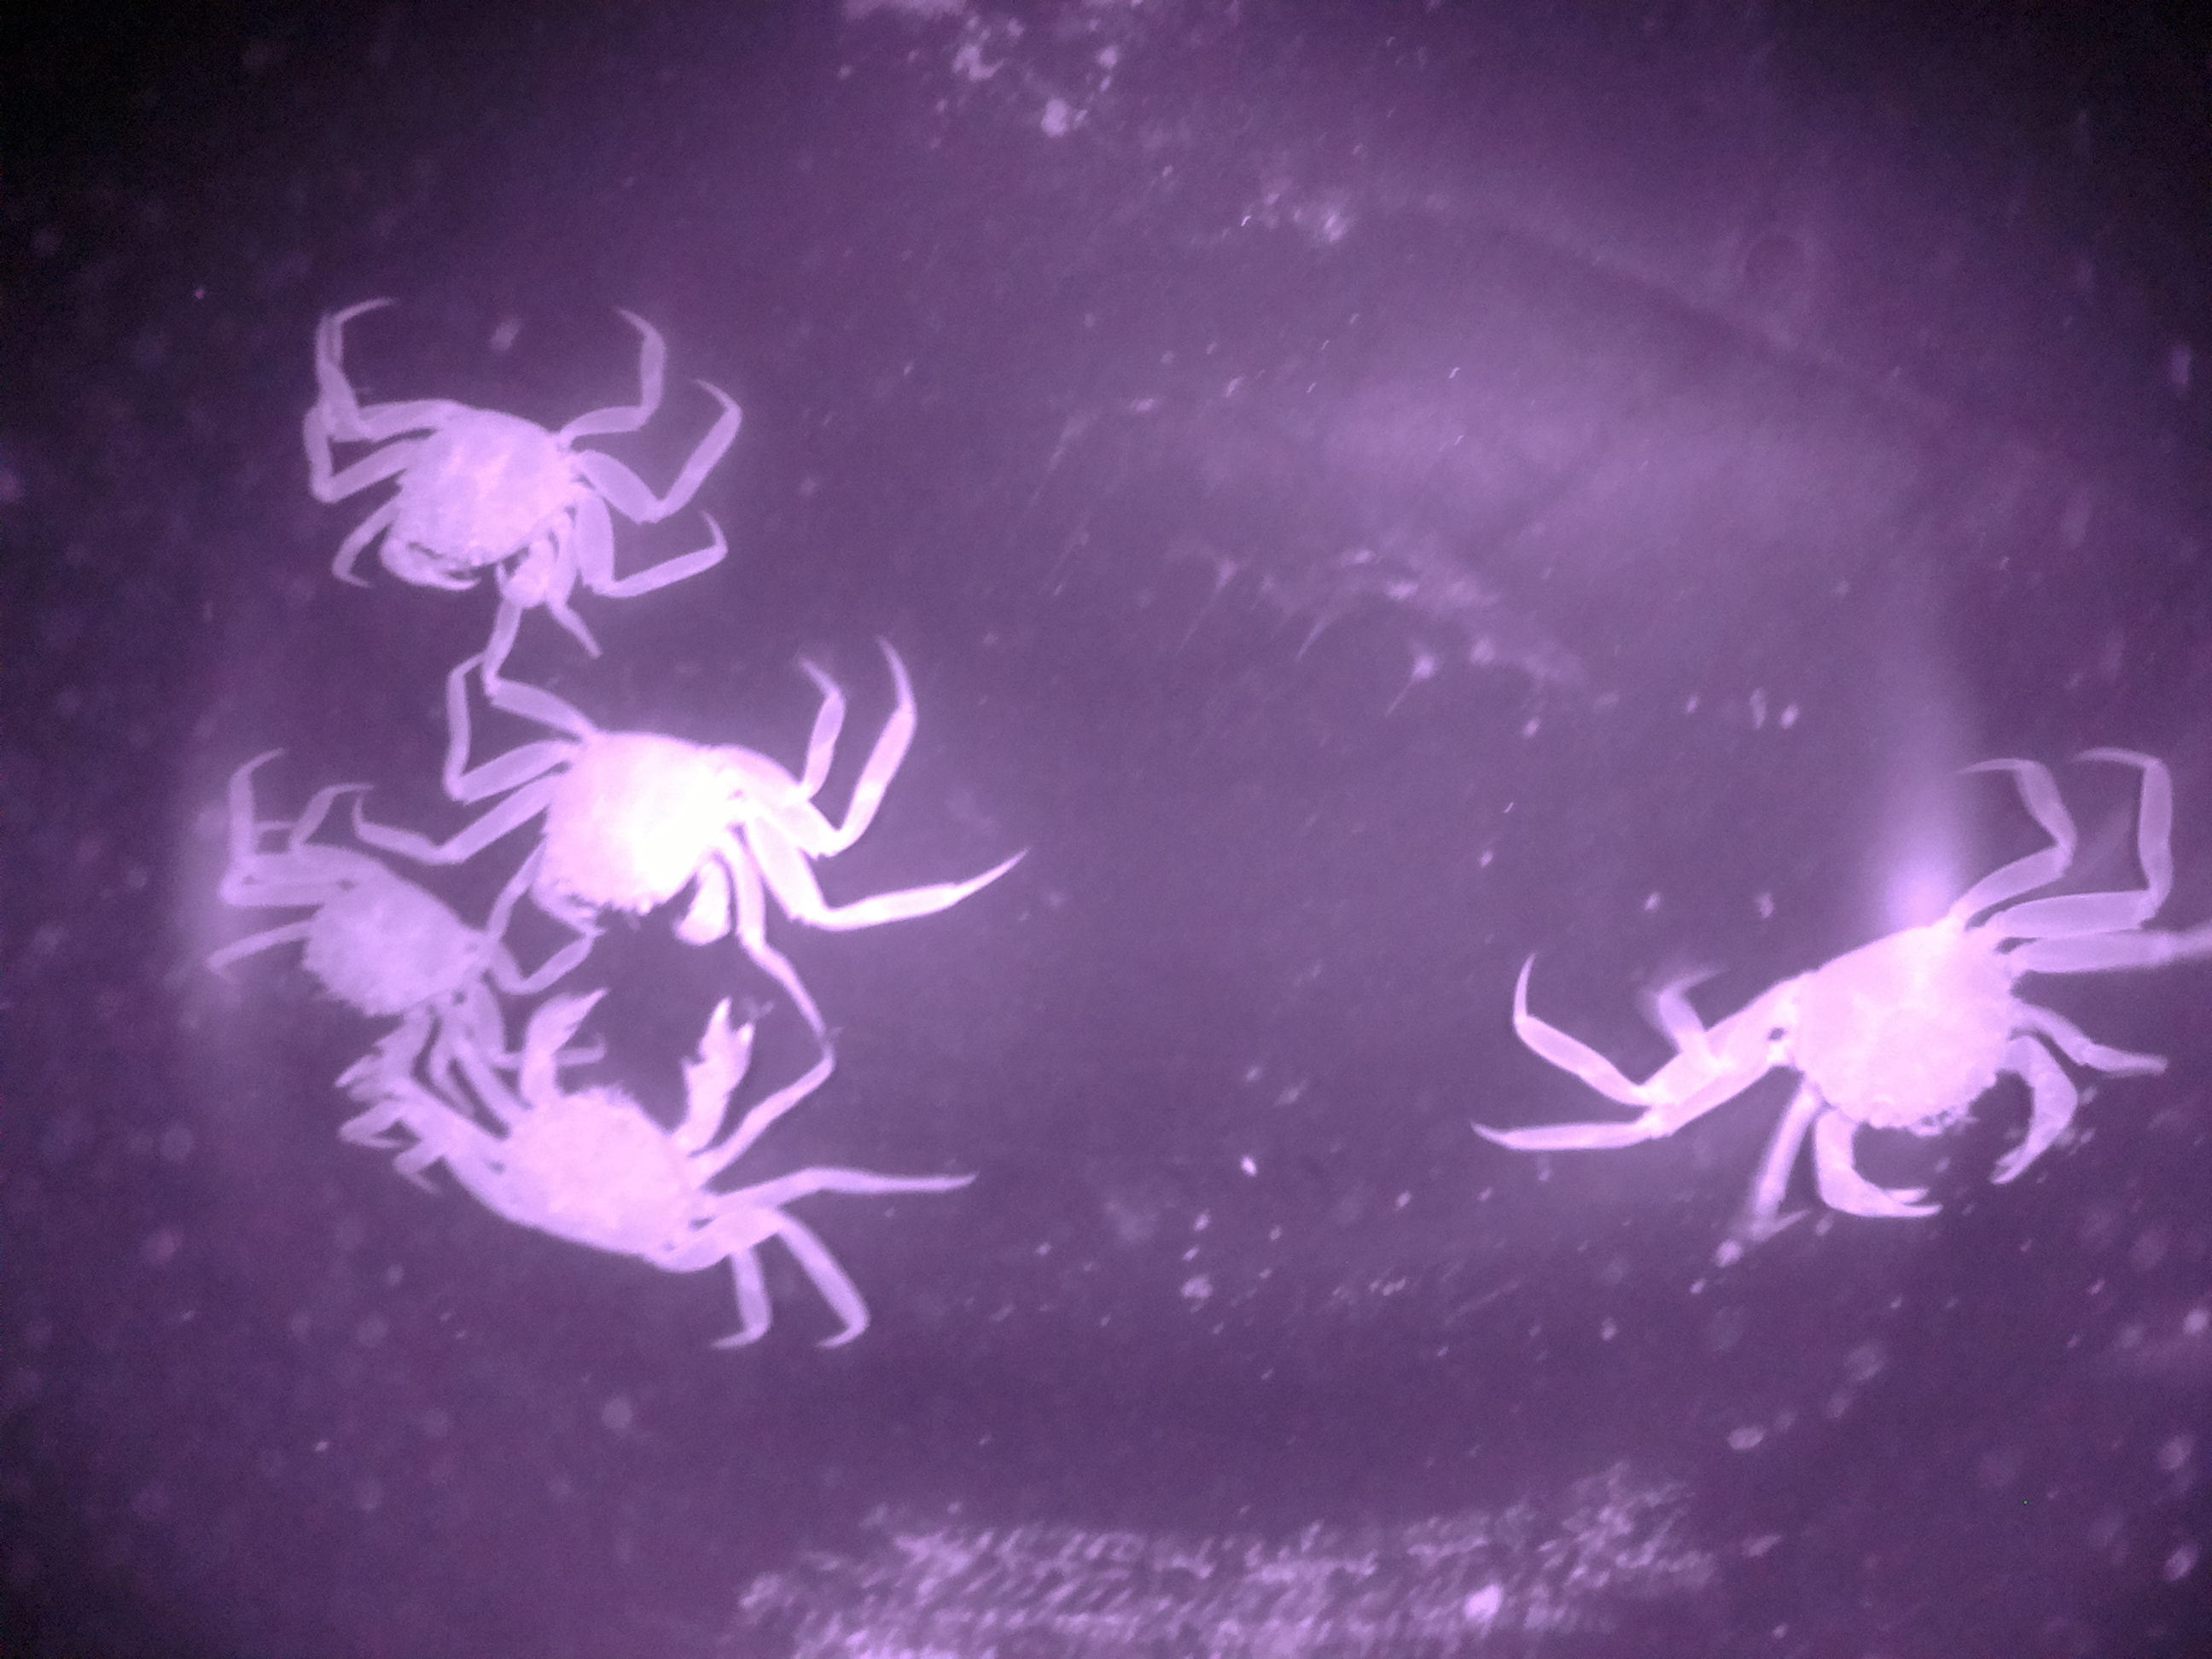Crab: (1599, 833, 2146, 1248), (261, 260, 784, 687), (425, 962, 799, 1331), (472, 664, 787, 1004)
